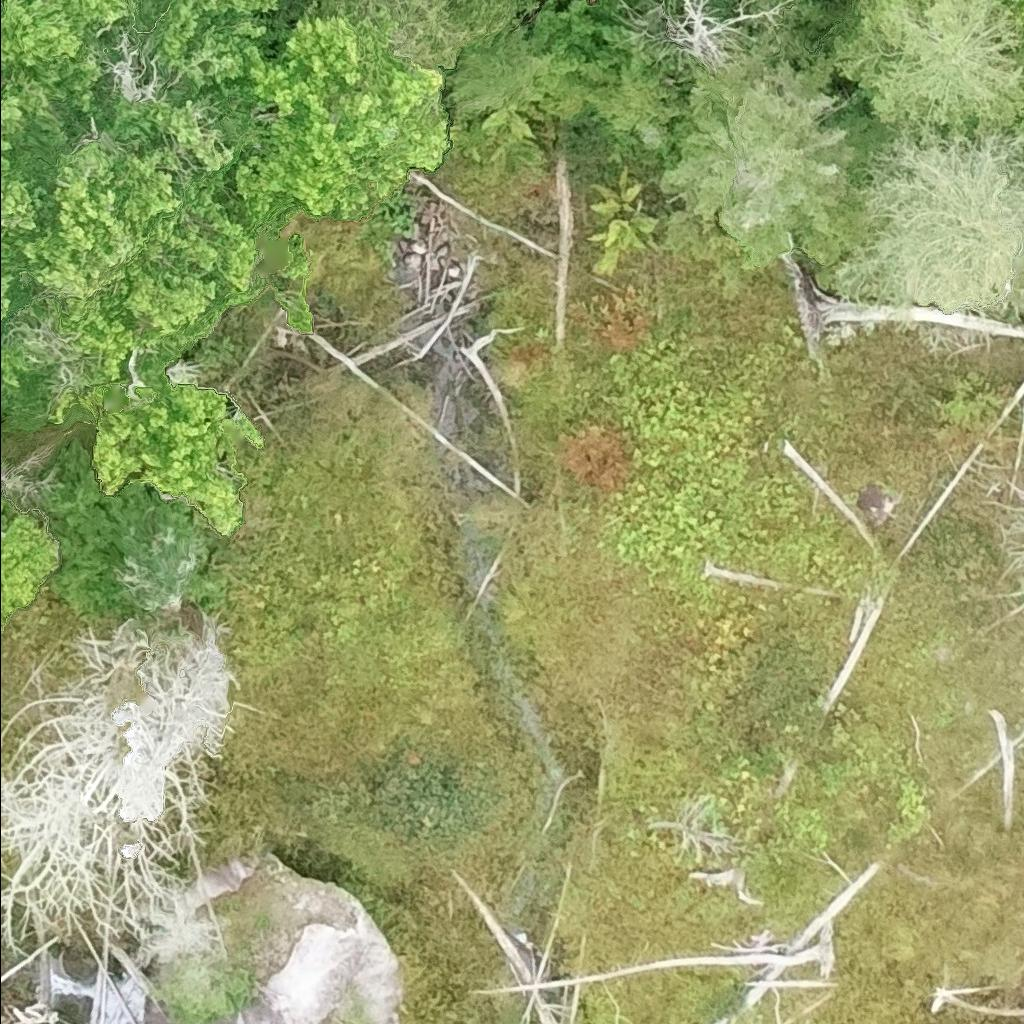crown: (0, 0, 449, 530), (657, 32, 887, 269), (809, 118, 1023, 316), (822, 0, 1023, 130), (325, 0, 537, 74), (0, 497, 45, 636), (1008, 0, 1023, 70)
